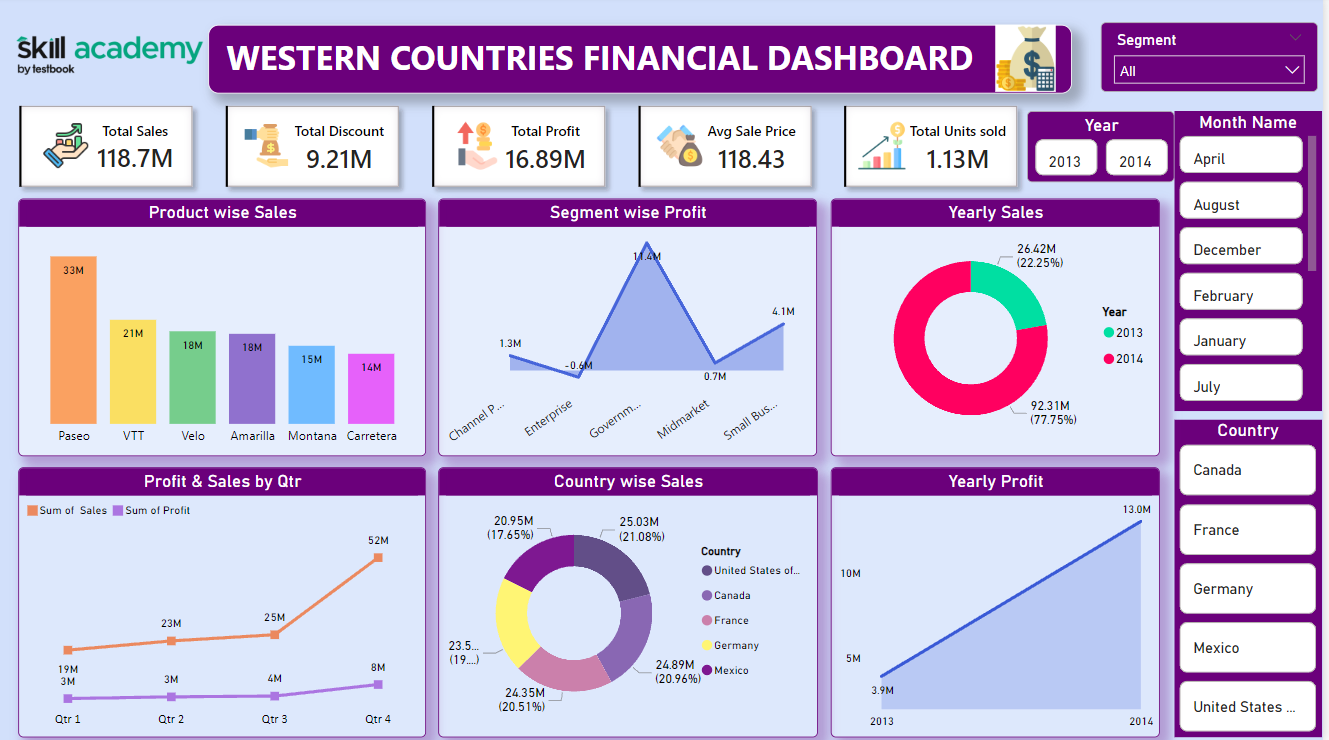

What the dashboard file says about the page in this screenshot:
{"tool":"powerbi","page":{"name":"Page 1","canvas":[1280,720],"ordinal":0},"visuals":[{"type":"group","id":"g1","title":"Group 3","box":[4.8,22.9,1274,692.6],"z":0},{"type":"textbox","box":[203.9,27.9,833.7,66.4],"z":0,"group":"g1"},{"type":"image","box":[0,0,218.4,115.8],"z":1000},{"type":"image","box":[948.3,22.9,89.3,74.8],"z":1000,"group":"g1"},{"type":"cardVisual","fields":{"Data":["Sum(financials. Sales)","Sum(financials.Discounts)","Sum(financials.Profit)","Avg(financials.Sale Price)","Sum(financials.Units Sold)"]},"box":[4.8,89.3,997.7,112.2],"z":2000,"group":"g1"},{"type":"advancedSlicerVisual","fields":{"Values":["financials.Year"]},"box":[994.1,111.1,142.4,68.8],"z":3000,"group":"g1"},{"type":"advancedSlicerVisual","fields":{"Values":["financials.Country"]},"box":[1136.4,409.1,142.4,306.4],"z":4000,"group":"g1"},{"type":"advancedSlicerVisual","fields":{"Values":["financials.Month Name"]},"box":[1136.4,111.1,142.4,289.5],"z":5000,"group":"g1"},{"type":"slicer","fields":{"Values":["financials.Segment"]},"box":[1065.3,25.4,209.9,67.6],"z":6000,"group":"g1"},{"type":"columnChart","title":"Product wise Sales","fields":{"Category":["financials.Product"],"Y":["Sum(financials. Sales)"]},"box":[20.5,195.5,393.3,248.5],"z":6000,"group":"g2"},{"type":"group","id":"g2","title":"Group 1","box":[20.5,195.5,1101.5,520],"z":7000,"group":"g1"},{"type":"areaChart","title":"Segment wise Profit","fields":{"Category":["financials.Segment"],"Y":["Sum(financials.Profit)"]},"box":[425.9,195.5,365.6,248.5],"z":7000,"group":"g2"},{"type":"lineChart","title":"Profit & Sales by Qtr","fields":{"Category":["financials.Date.Variation.Date Hierarchy.Quarter"],"Y":["Sum(financials. Sales)","Sum(financials.Profit)"]},"box":[20.5,454.9,393.3,260.6],"z":8000,"group":"g2"},{"type":"donutChart","title":"Yearly Sales","fields":{"Category":["financials.Date.Variation.Date Hierarchy.Year"],"Y":["Sum(financials. Sales)"]},"box":[804.7,195.5,317.3,248.5],"z":9000,"group":"g2"},{"type":"donutChart","title":"Country wise Sales","fields":{"Category":["financials.Country"],"Y":["Sum(financials. Sales)"]},"box":[425.9,454.9,366,260.6],"z":10000,"group":"g2"},{"type":"areaChart","title":"Yearly Profit","fields":{"Category":["financials.Date.Variation.Date Hierarchy.Year"],"Y":["Sum(financials.Profit)"]},"box":[804.7,454.9,317.3,260.6],"z":11000,"group":"g2"}]}

Visuals, with their boxes in screenshot pixels (x1, y1, x2, y2), scaled from the page's 1280x720 canvas onto the 1329x740 screenshot:
"Group 3" group: 5,24,1328,735
textbox: 212,29,1077,97
image: 0,0,227,119
image: 985,24,1077,100
cardVisual - Sum(financials. Sales) x Sum(financials.Discounts): 5,92,1041,207
advancedSlicerVisual - financials.Year: 1032,114,1180,185
advancedSlicerVisual - financials.Country: 1180,420,1328,735
advancedSlicerVisual - financials.Month Name: 1180,114,1328,412
slicer - financials.Segment: 1106,26,1324,96
"Product wise Sales" columnChart: 21,201,430,456
"Group 1" group: 21,201,1165,735
"Segment wise Profit" areaChart: 442,201,822,456
"Profit & Sales by Qtr" lineChart: 21,468,430,735
"Yearly Sales" donutChart: 836,201,1165,456
"Country wise Sales" donutChart: 442,468,822,735
"Yearly Profit" areaChart: 836,468,1165,735
